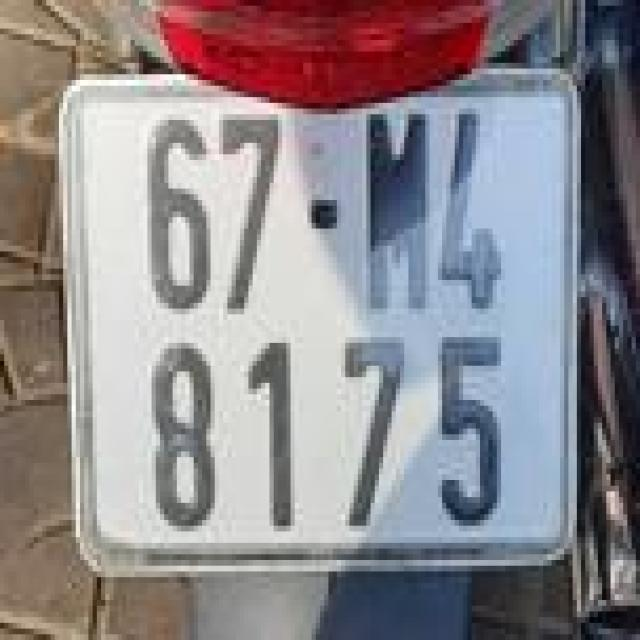1: (249, 328, 303, 546)
4: (438, 106, 505, 323)
5: (430, 323, 510, 534)
6: (139, 97, 215, 320)
7: (334, 320, 410, 537), (221, 111, 288, 323)
8: (152, 343, 223, 566)
M: (358, 91, 429, 320)
